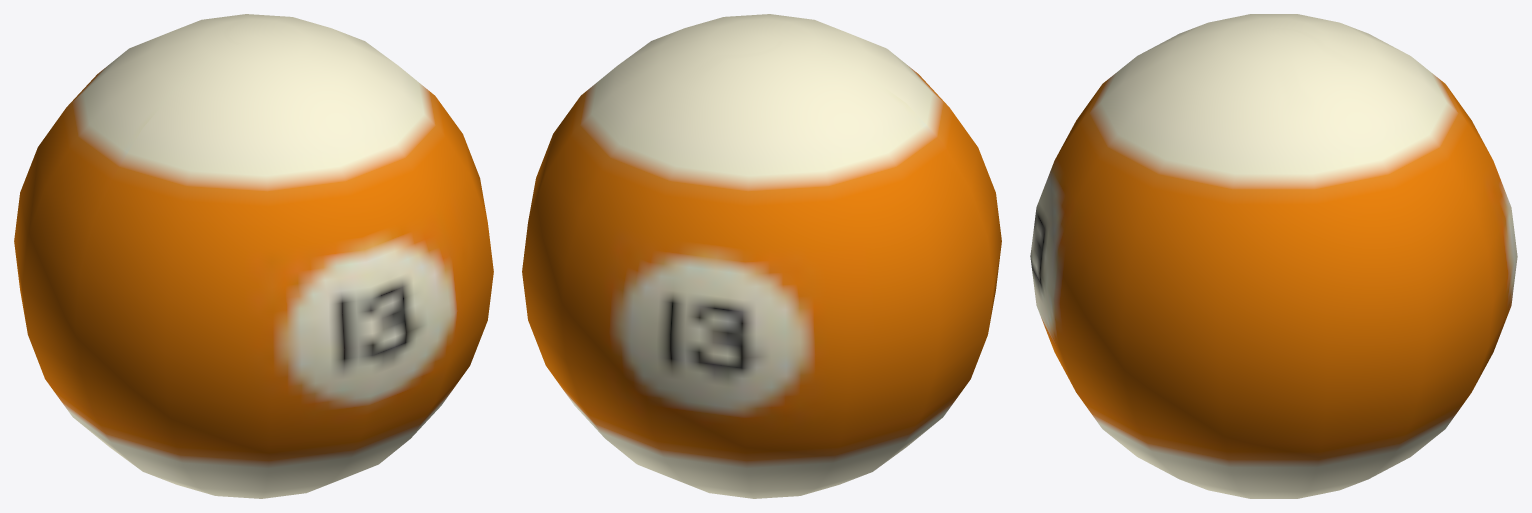
File: ball13.fbx
The picture shows the model from 3 angles, left to right: view 1: azimuth 30°, elevation 25°; view 2: azimuth 150°, elevation 25°; view 3: azimuth 270°, elevation 25°; orthographic projection.
Parts seen in each view (by area): view 1: pSphere2; view 2: pSphere2; view 3: pSphere2.
Boxes of the visible parts, box(x1,y1,x2,y2) form: pSphere2: box(14, 14, 493, 498); pSphere2: box(522, 14, 1001, 498); pSphere2: box(1030, 14, 1517, 498).
Bounding box in the file's own units: 0.3779 × 0.3875 × 0.3875.
